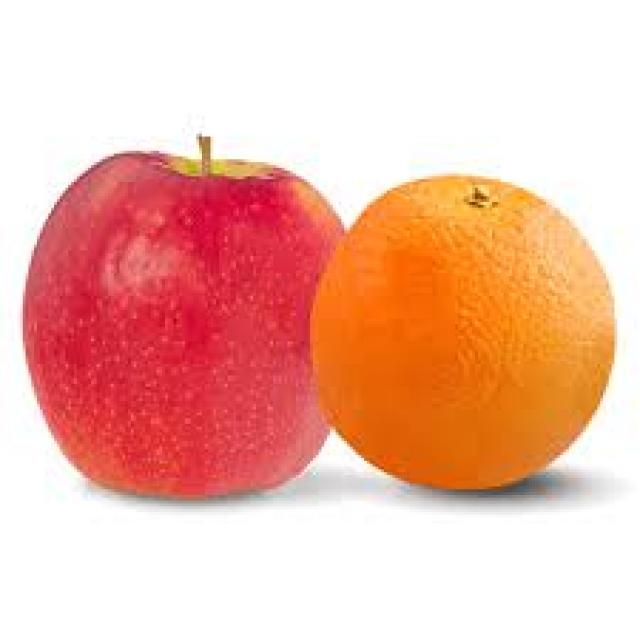organic waste: (23, 131, 344, 495), (304, 174, 612, 484)
